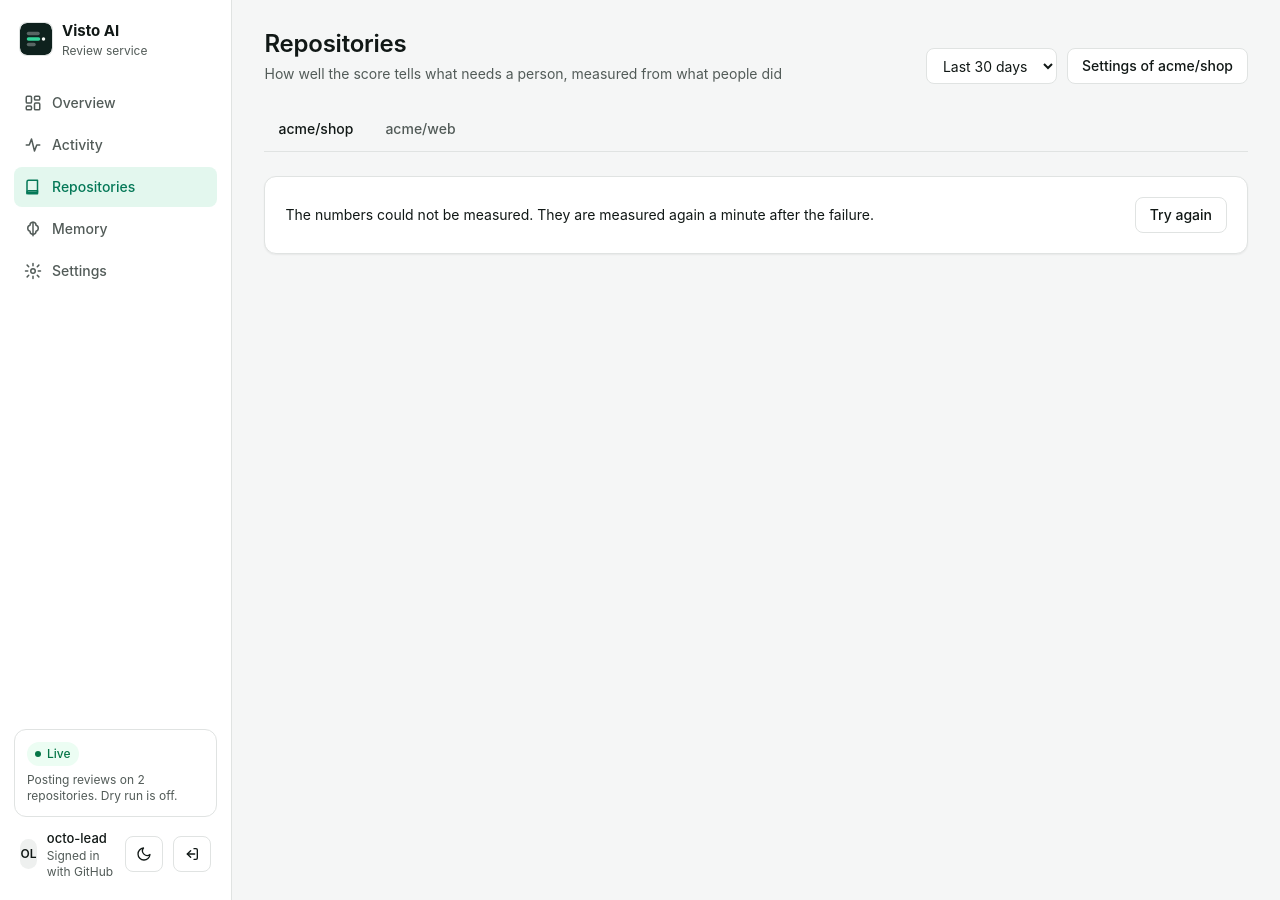
a failed measure and a failed read say so, with no alert, and Try again reads once more
Check: the text "The numbers could not be measured. They are measured again a minute after the failure." is shown, box [286,206,874,223]
Step 1. Click the button "Try again" → (1181, 215), box [1135,197,1227,233]
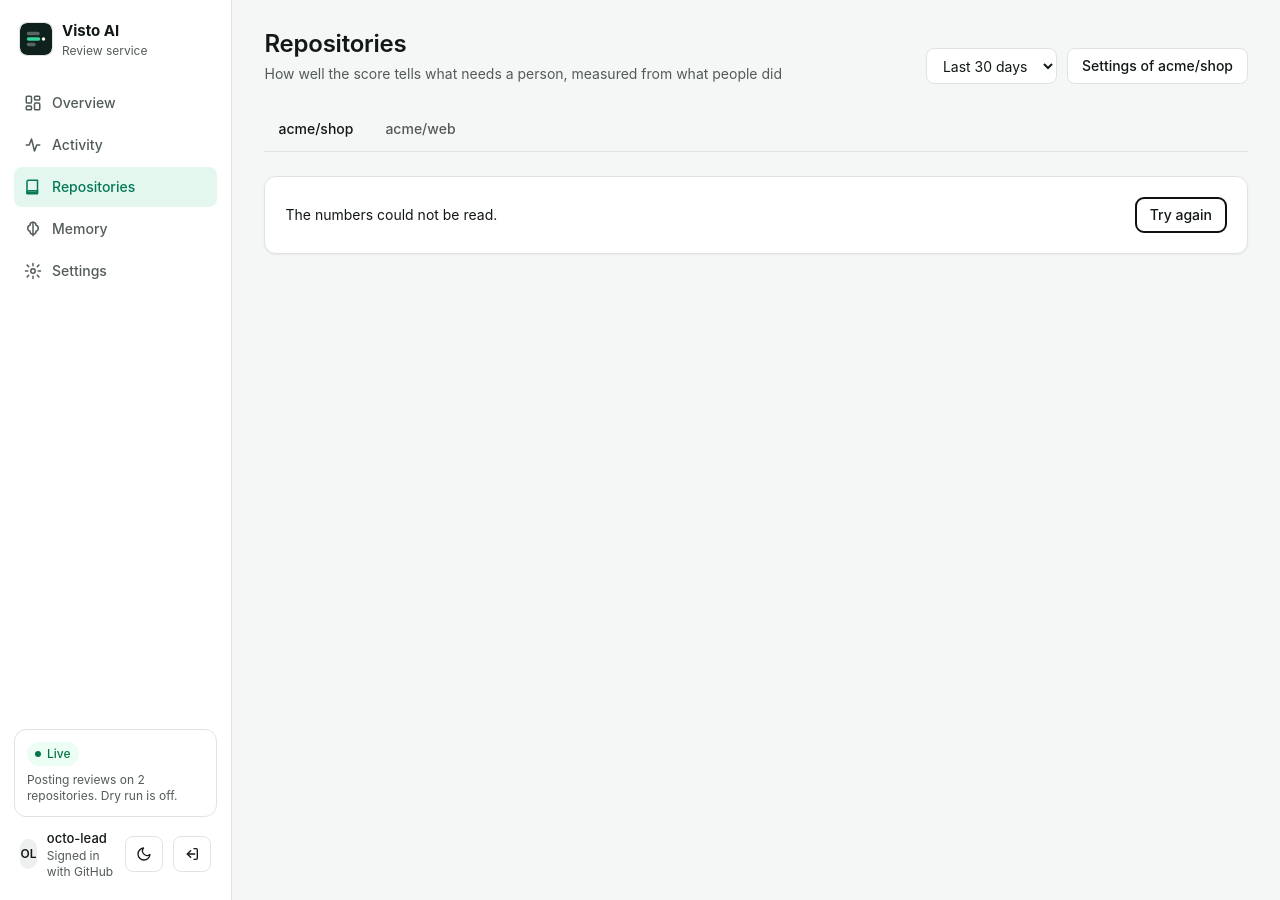
Check: the text "The numbers could not be read." is shown, box [286,205,497,225]
Step 2. Click the button "Try again" → (1181, 215), box [1135,197,1227,233]
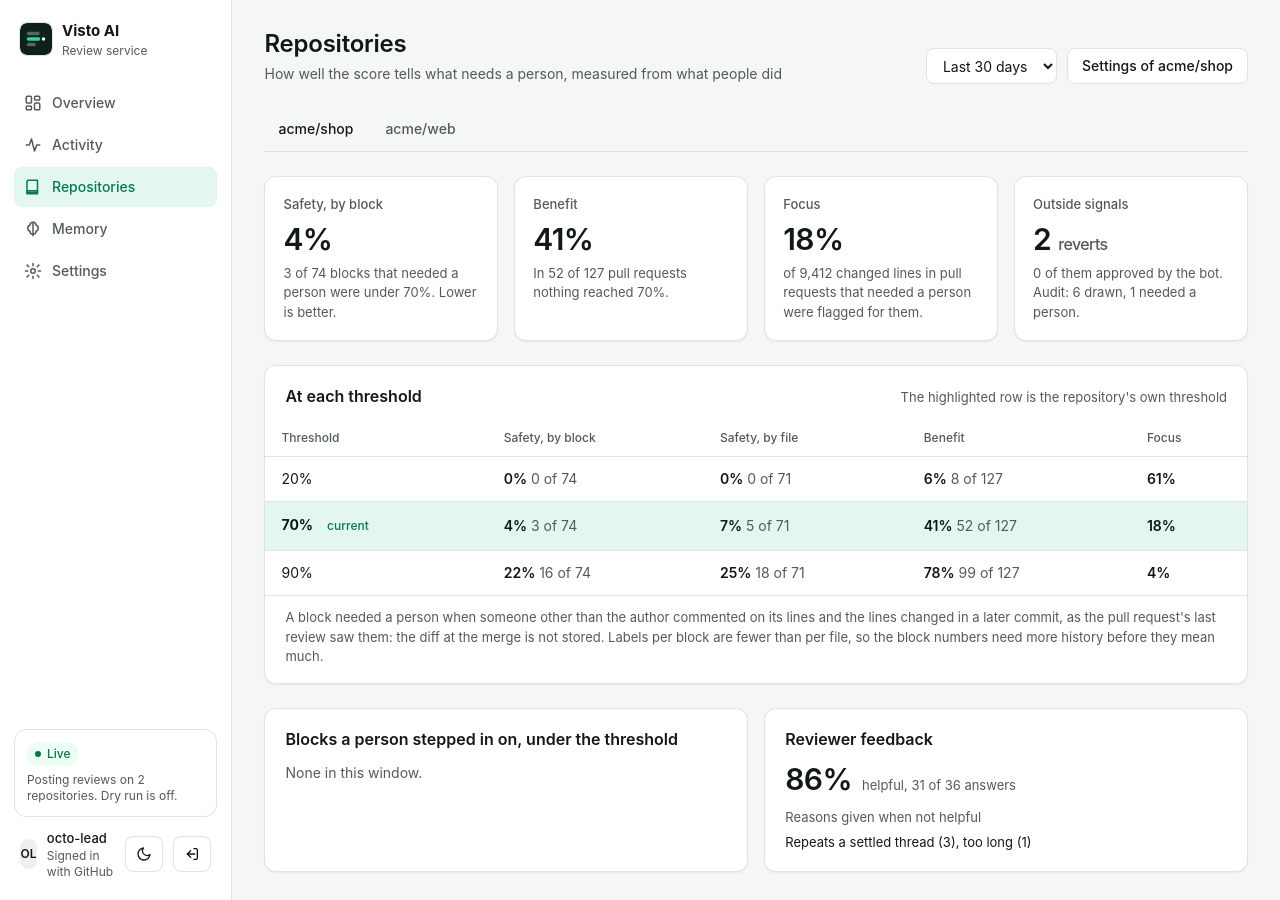
Check: the text "3 of 74 blocks that needed a person were under 70%. Lower is better." is shown, box [284,264,479,322]
